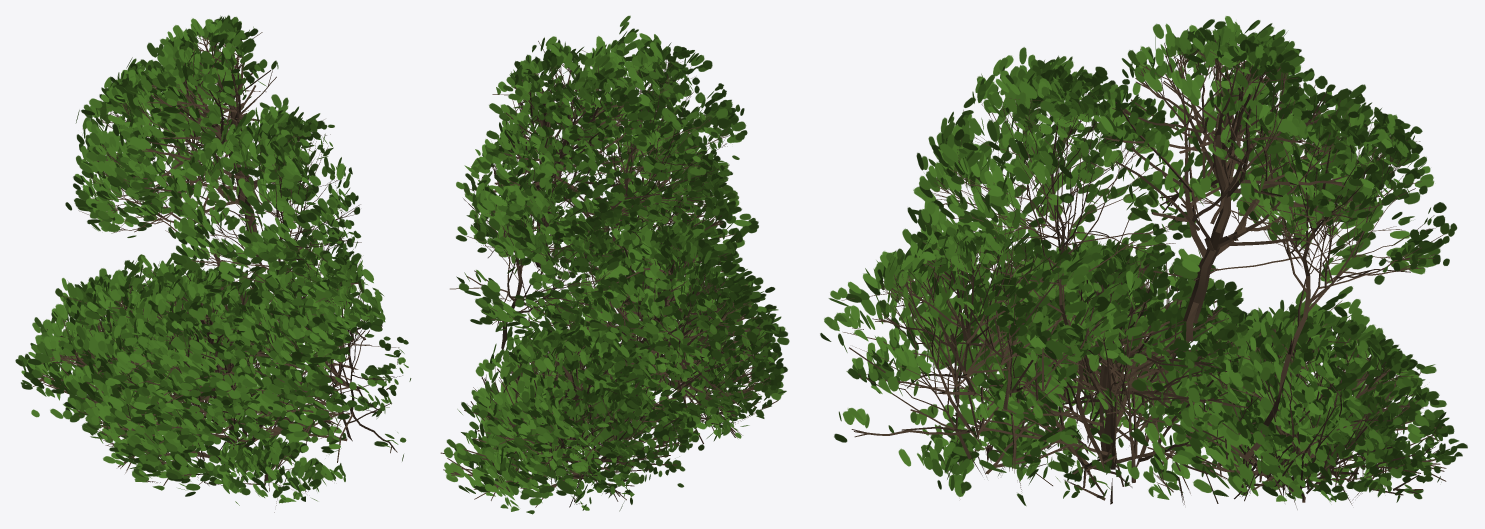
3 views of the same model, side by side, from view 1: azimuth 30°, elevation 25°; view 2: azimuth 150°, elevation 25°; view 3: azimuth 270°, elevation 25° (orthographic). The views are drawn at different scales.
Visible parts, largest first — view 1: oak 01.001_trunk_Mat.001_0.336; view 2: oak 01.001_trunk_Mat.001_0.336; view 3: oak 01.001_trunk_Mat.001_0.336.
Part boxes in pixels (x1,y1,x2,y2): oak 01.001_trunk_Mat.001_0.336: (15, 15, 411, 512); oak 01.001_trunk_Mat.001_0.336: (440, 15, 789, 514); oak 01.001_trunk_Mat.001_0.336: (820, 16, 1467, 509).
Bounding box in the file's own units: 2.27 × 3.97 × 4.72.
Materials: 2 (1 with a texture image).
